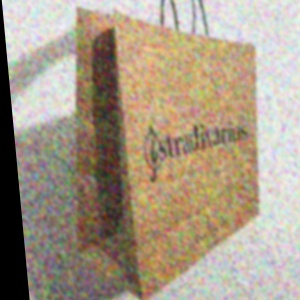stradivarius: (86, 121, 300, 244)
